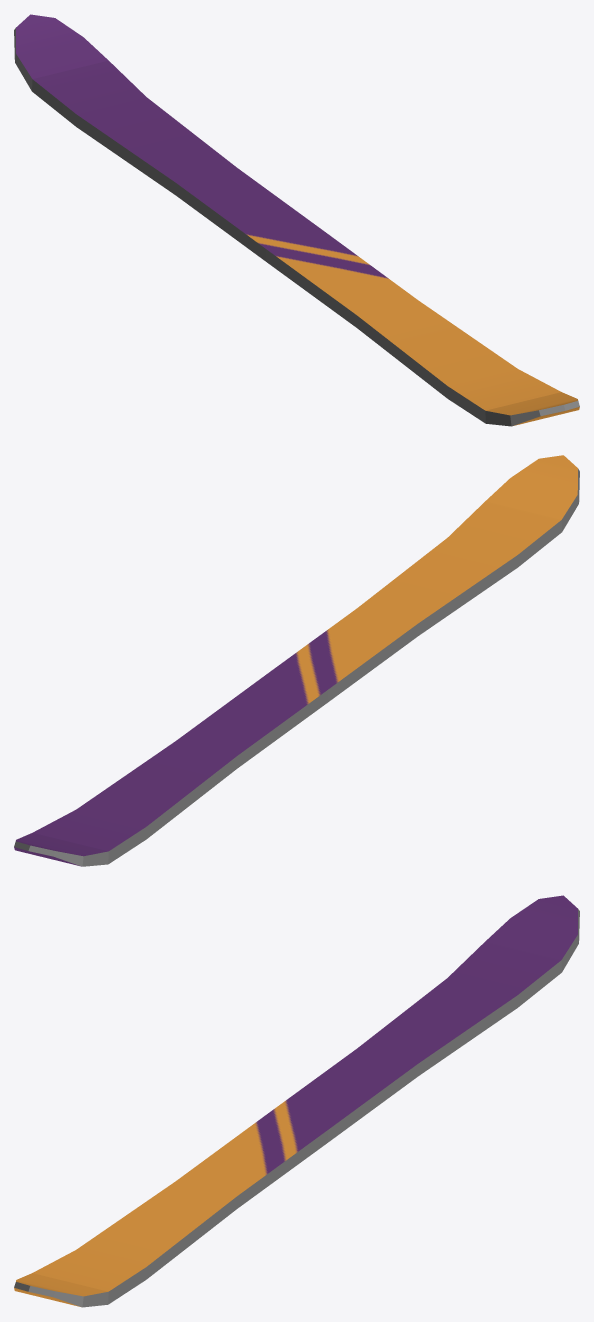
Rendered from SM_Prop_Ski_R_01.glb.
3 views of the same model, one above another, from view 1: azimuth 30°, elevation 25°; view 2: azimuth 150°, elevation 25°; view 3: azimuth 330°, elevation 25° (orthographic).
Parts seen in each view (by area): view 1: SM_Prop_Ski_R_01; view 2: SM_Prop_Ski_R_01; view 3: SM_Prop_Ski_R_01.
Part boxes in pixels (x1,y1,x2,y2): SM_Prop_Ski_R_01: (14,14,579,426); SM_Prop_Ski_R_01: (14,455,579,866); SM_Prop_Ski_R_01: (14,895,579,1307).
Bounding box in the file's own units: 0.1408 × 0.0787 × 1.72.
1 material, 1 textured.
